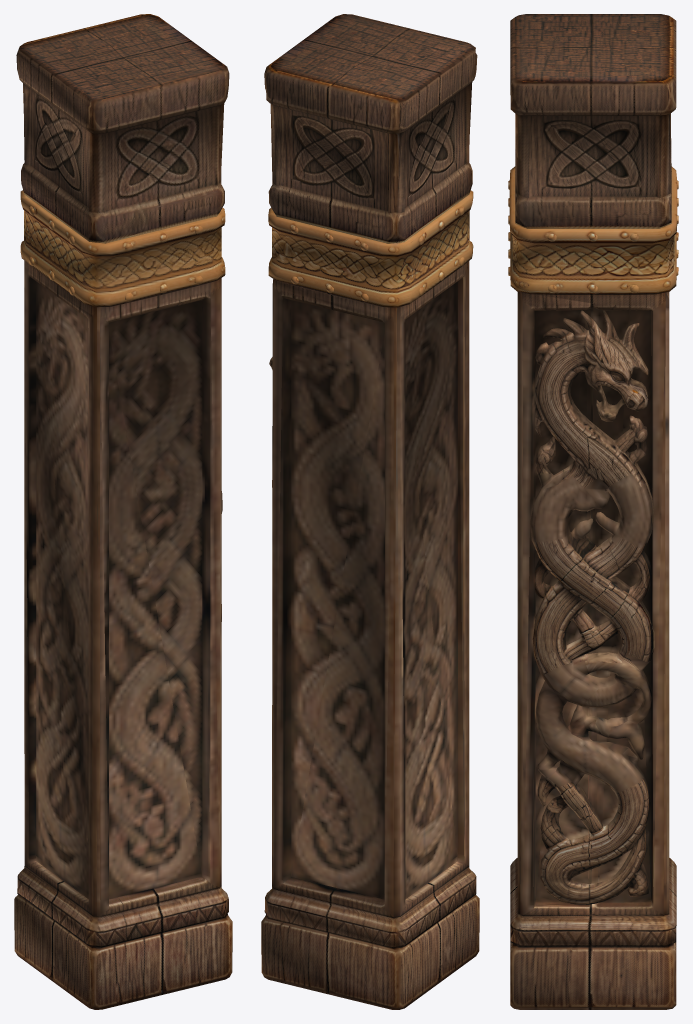
Rendered from SM_Env_HeorotCarvedPillar.fbx.
3 views of the same model, side by side, from view 1: azimuth 30°, elevation 25°; view 2: azimuth 150°, elevation 25°; view 3: azimuth 270°, elevation 25° (orthographic). The views are drawn at different scales.
Parts seen in each view (by area): view 1: SM_Env_HeorotCarvedPillar; view 2: SM_Env_HeorotCarvedPillar; view 3: SM_Env_HeorotCarvedPillar.
Boxes of the visible parts, bbox=[...] form: SM_Env_HeorotCarvedPillar: bbox=[14, 14, 232, 1009]; SM_Env_HeorotCarvedPillar: bbox=[261, 14, 479, 1009]; SM_Env_HeorotCarvedPillar: bbox=[508, 14, 678, 1009].
Bounding box in the file's own units: 20.81 × 19.99 × 120.
Materials: 1 (1 with a texture image).
